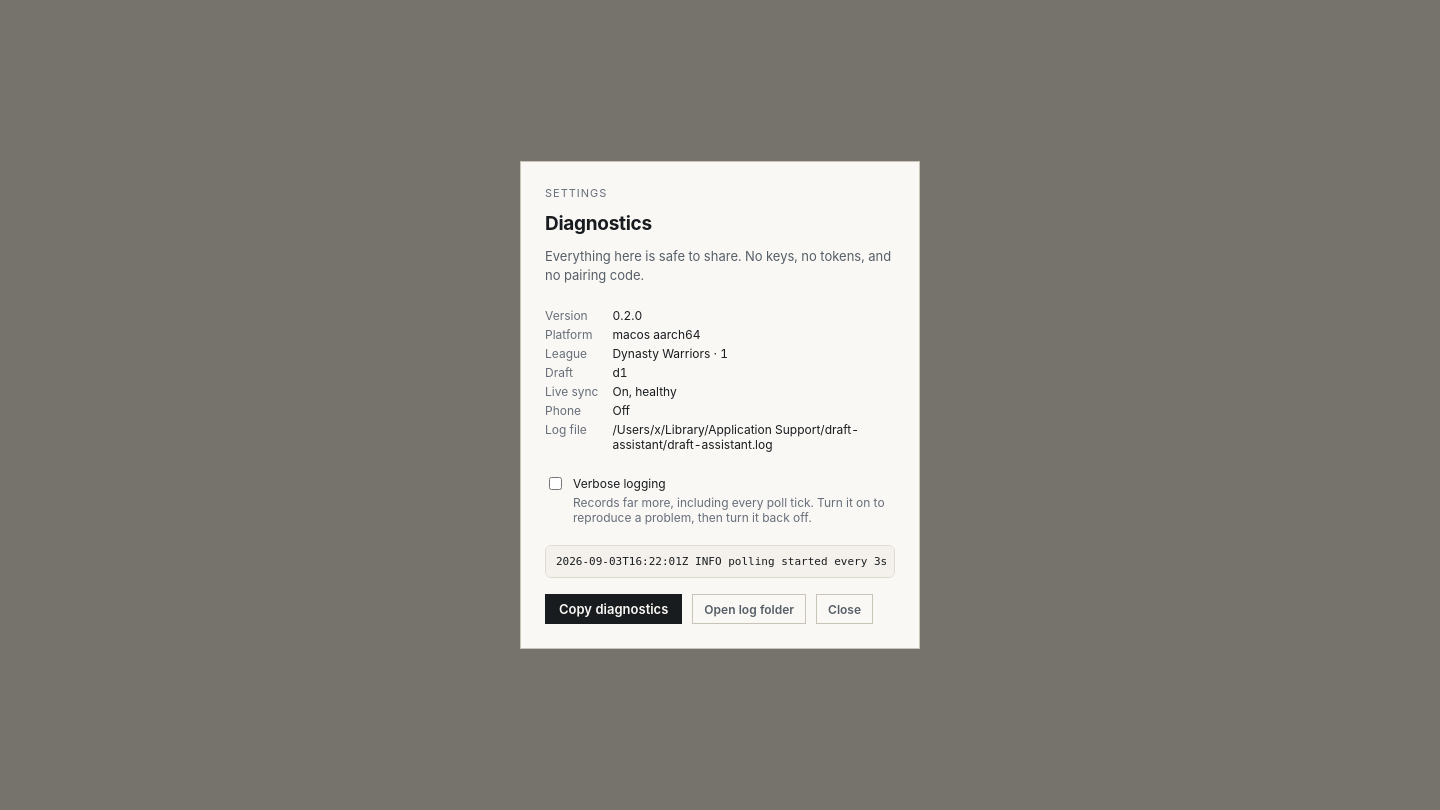
Test: verbose logging › turns the level up and down from the dialog
The width and height of the screenshot is (1440, 810).
Click the checkbox labelled "Verbose logging" at (556, 483), box [549,476,562,490]
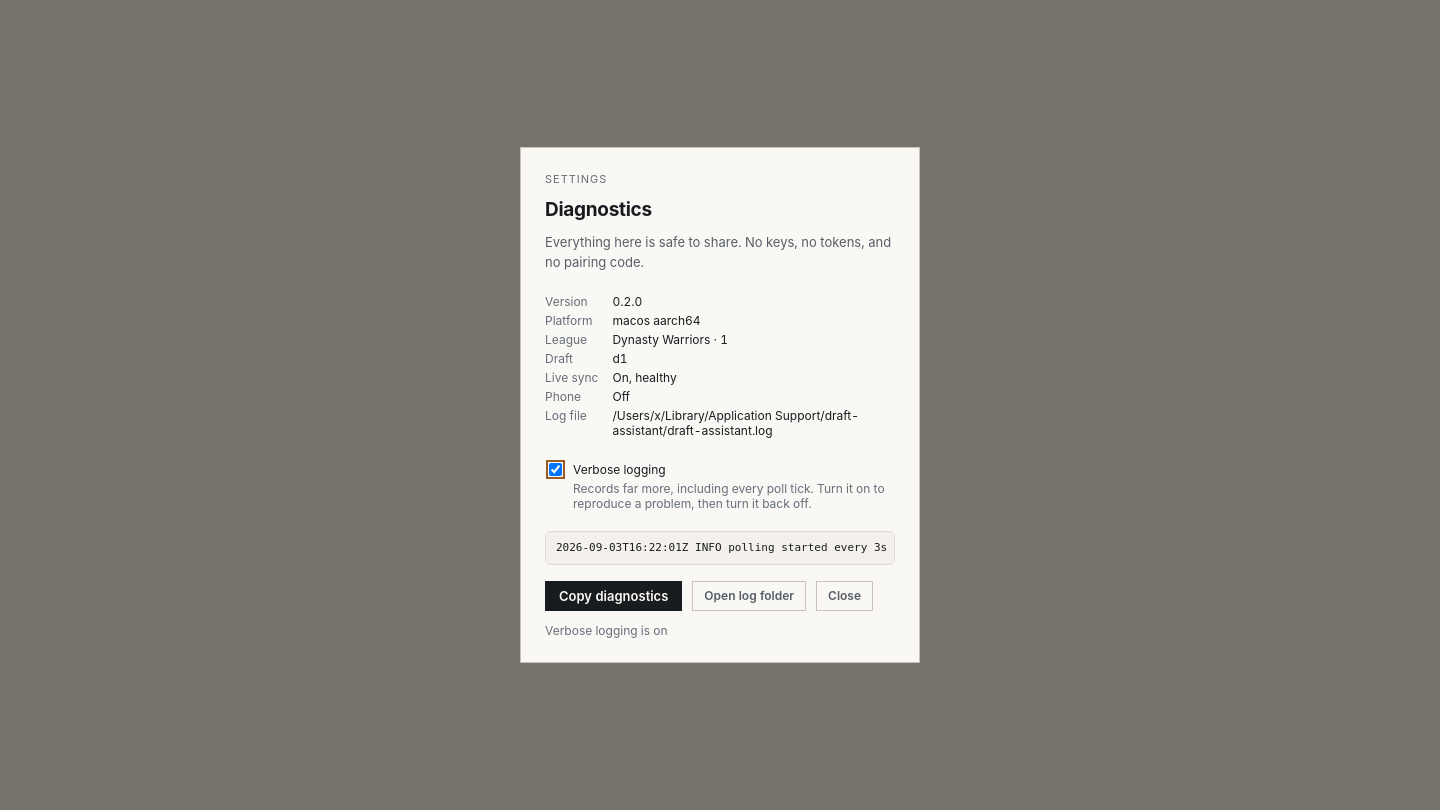
expect the checkbox labelled "Verbose logging" is checked: met
expect the text "Verbose logging is on" is shown: met, box [545,623,668,638]
Click the checkbox labelled "Verbose logging" at (556, 470), box [549,463,562,476]
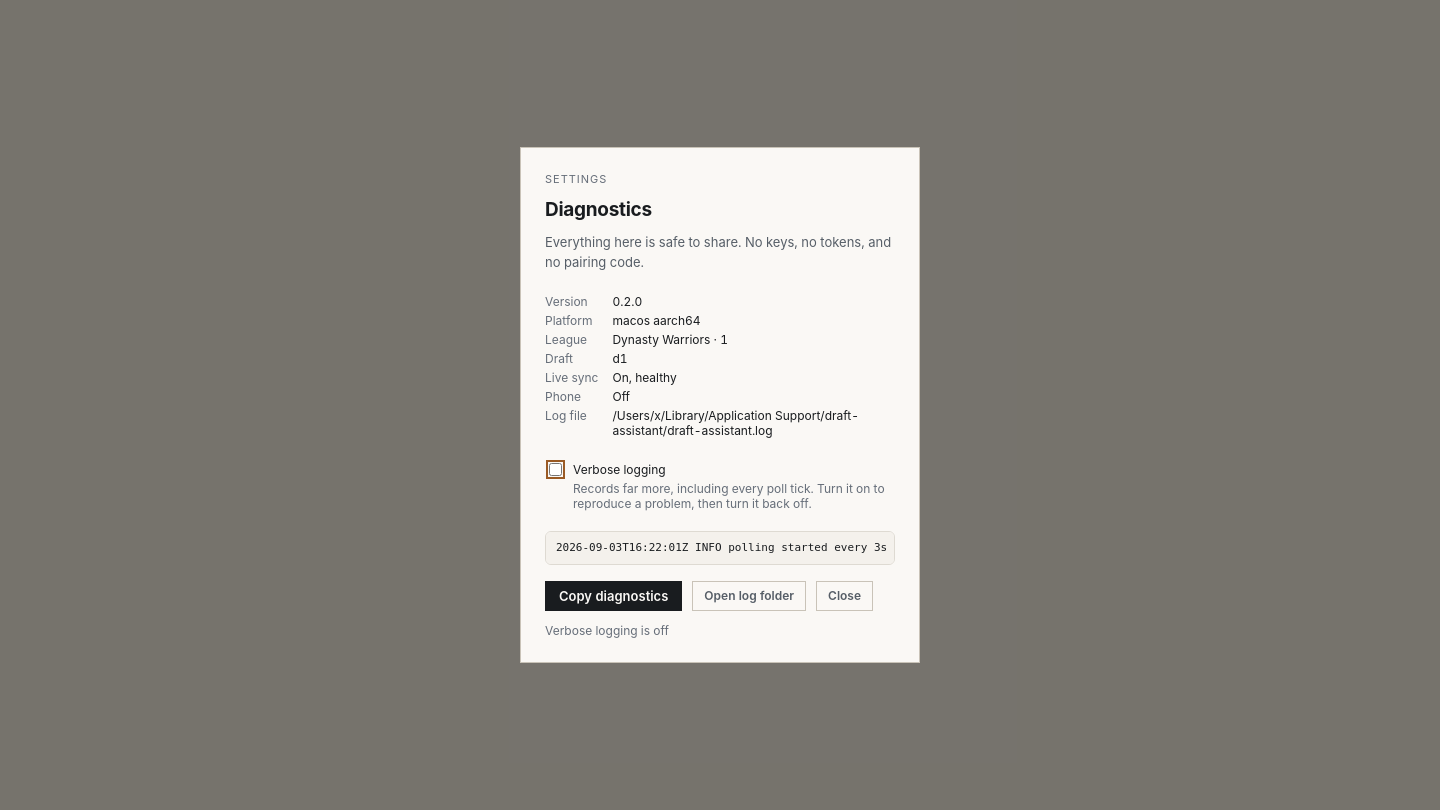
expect the text "Verbose logging is off" is shown: met, box [545,623,669,638]
